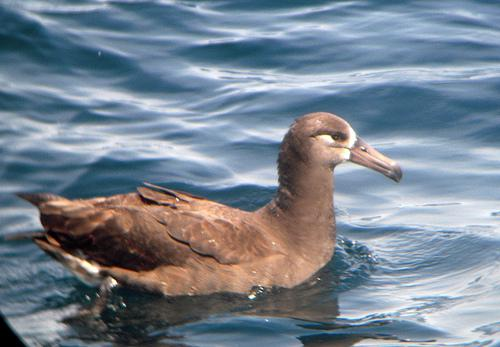001.Black_footed_Albatross: (11, 111, 401, 318)
